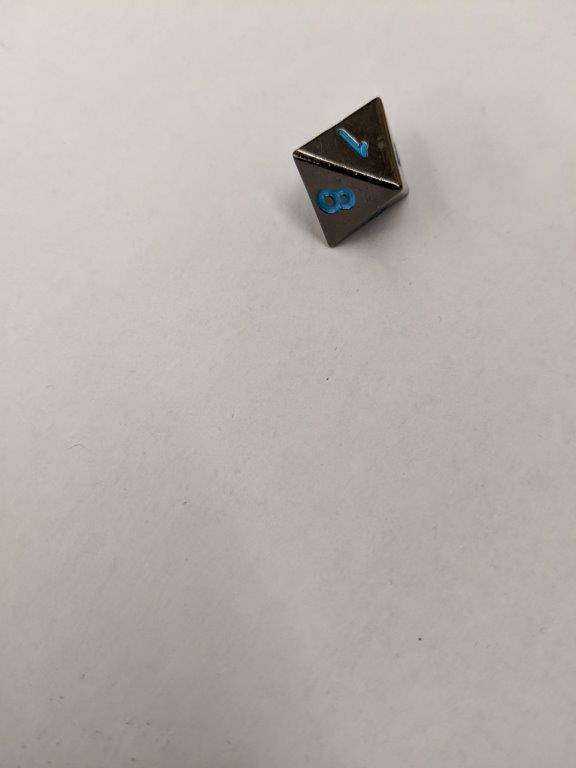d8-1: (289, 94, 411, 252)
